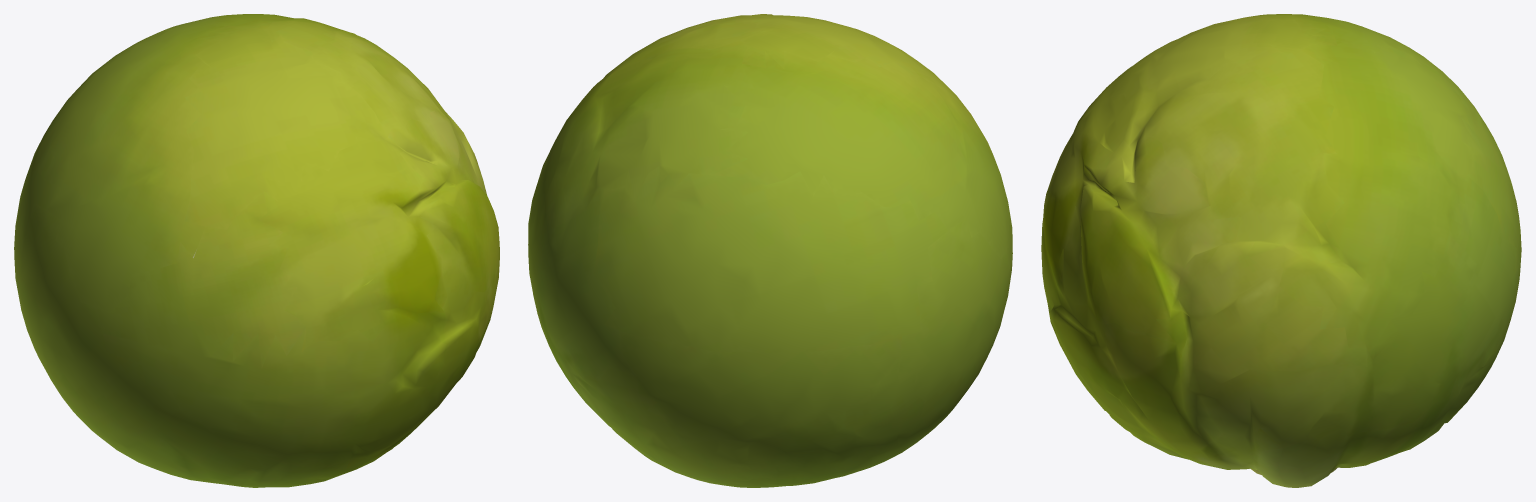
Rendered from cabbage.glb.
3 views of the same model, side by side, from view 1: azimuth 30°, elevation 25°; view 2: azimuth 150°, elevation 25°; view 3: azimuth 270°, elevation 25° (orthographic).
Visible parts, largest first — view 1: tripo_node_f1d92c55-f0c4-4ddc-8b2b-615cf8bf92a1; view 2: tripo_node_f1d92c55-f0c4-4ddc-8b2b-615cf8bf92a1; view 3: tripo_node_f1d92c55-f0c4-4ddc-8b2b-615cf8bf92a1.
Part boxes in pixels (box(x1,y1,x2,y2)): tripo_node_f1d92c55-f0c4-4ddc-8b2b-615cf8bf92a1: box(14, 14, 499, 487); tripo_node_f1d92c55-f0c4-4ddc-8b2b-615cf8bf92a1: box(528, 14, 1012, 487); tripo_node_f1d92c55-f0c4-4ddc-8b2b-615cf8bf92a1: box(1041, 14, 1521, 487).
Size of the model in its own units: 0.9998 by 0.9705 by 0.9991.
1 material, 1 textured.
